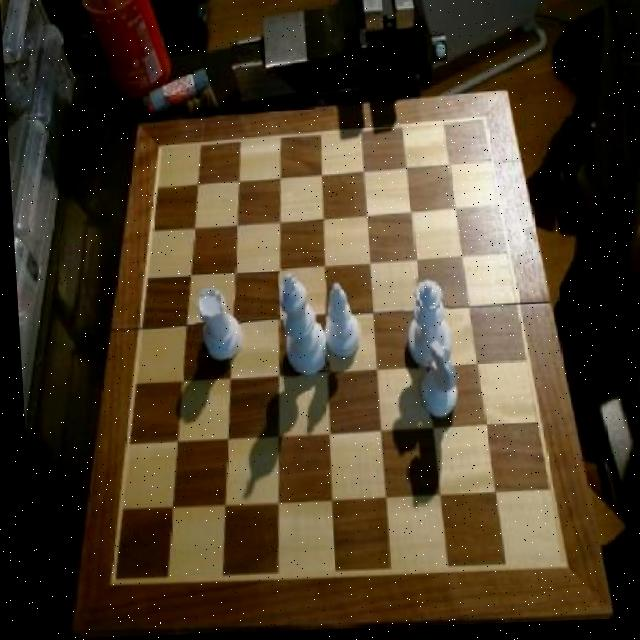black-rook: (318, 284, 361, 366)
white-bishop: (273, 273, 327, 382)
white-king: (413, 341, 460, 426)
white-pawn: (398, 281, 448, 375)
white-queen: (189, 286, 240, 369)
